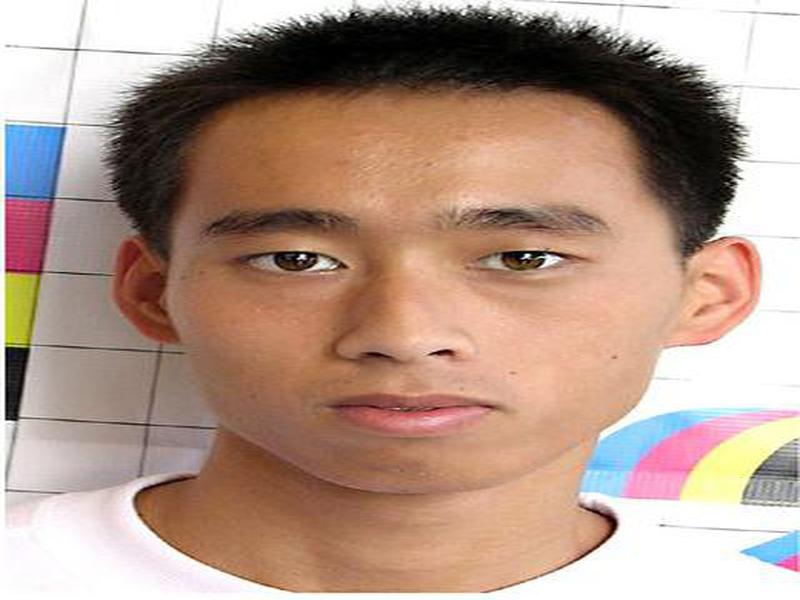without_mask: (166, 91, 674, 502)
